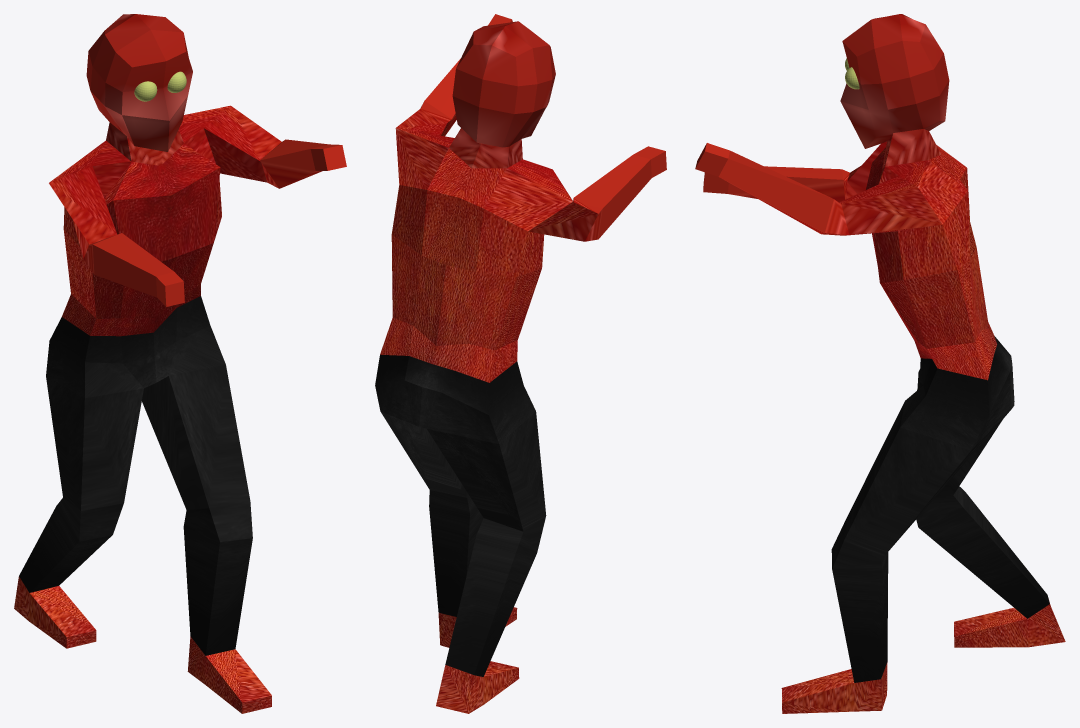
Rendered from laySheary_000026.obj.
3 views of the same model, side by side, from view 1: azimuth 30°, elevation 25°; view 2: azimuth 150°, elevation 25°; view 3: azimuth 270°, elevation 25° (orthographic). The views are drawn at different scales.
Parts seen in each view (by area): view 1: Cube; view 2: Cube; view 3: Cube.
Part boxes in pixels (x1,y1,x2,y2): Cube: (14, 14, 346, 713); Cube: (375, 14, 666, 713); Cube: (695, 14, 1065, 713).
Size of the model in its own units: 5.18 by 15.83 by 8.02.
Materials: 3 (2 with a texture image).
